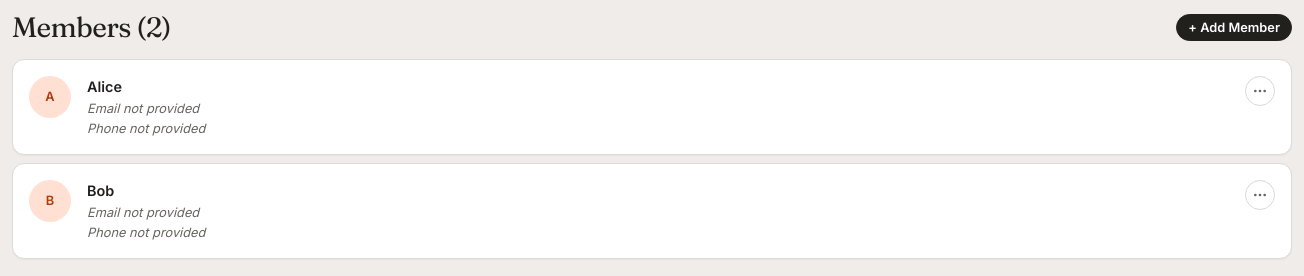
Scenario: MembersTab › shows Link Household option for member with no links
Click the button named "Actions for": [1260, 91] box [1245,76,1275,106]
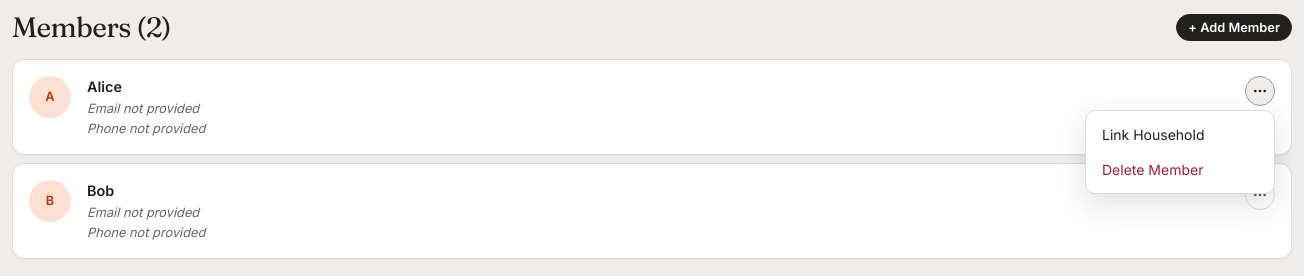
Now the menu item "Link Household" is shown, box [1092,117,1268,152]
